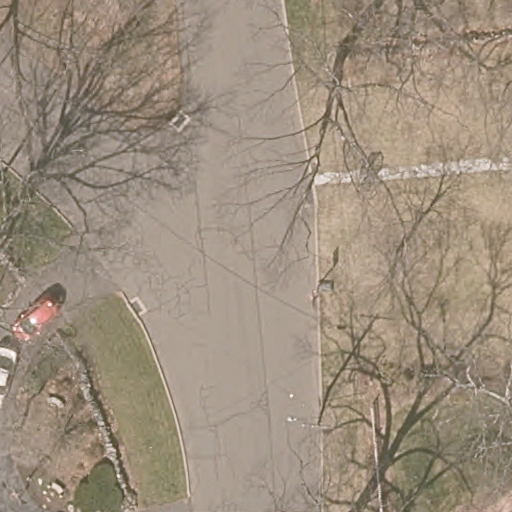DT: (284, 388, 339, 433)
